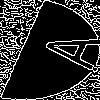A: (25, 25, 100, 71)
